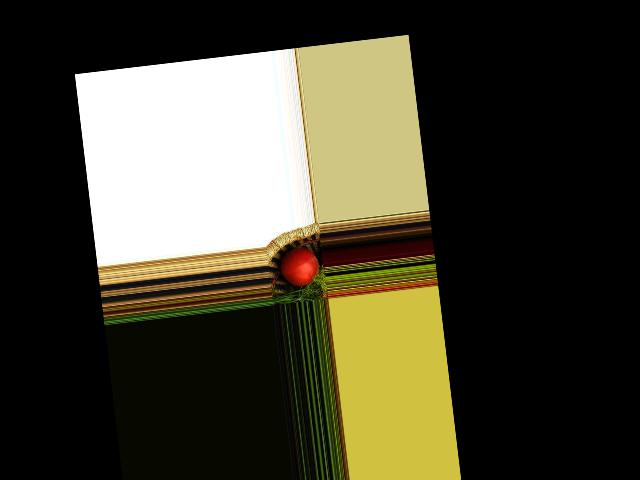tomato: (278, 246, 320, 289)
